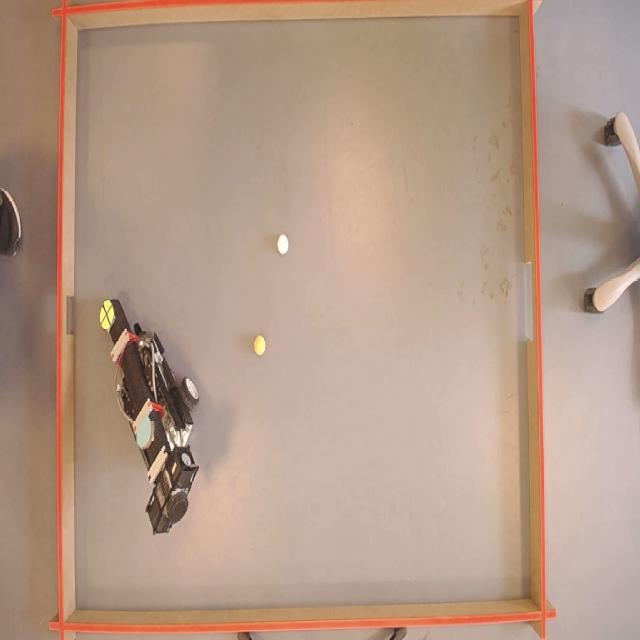orange: (254, 335, 269, 355)
robot: (96, 295, 204, 528)
robot-front: (136, 416, 152, 448), (100, 298, 114, 329)
white: (276, 233, 289, 254)
